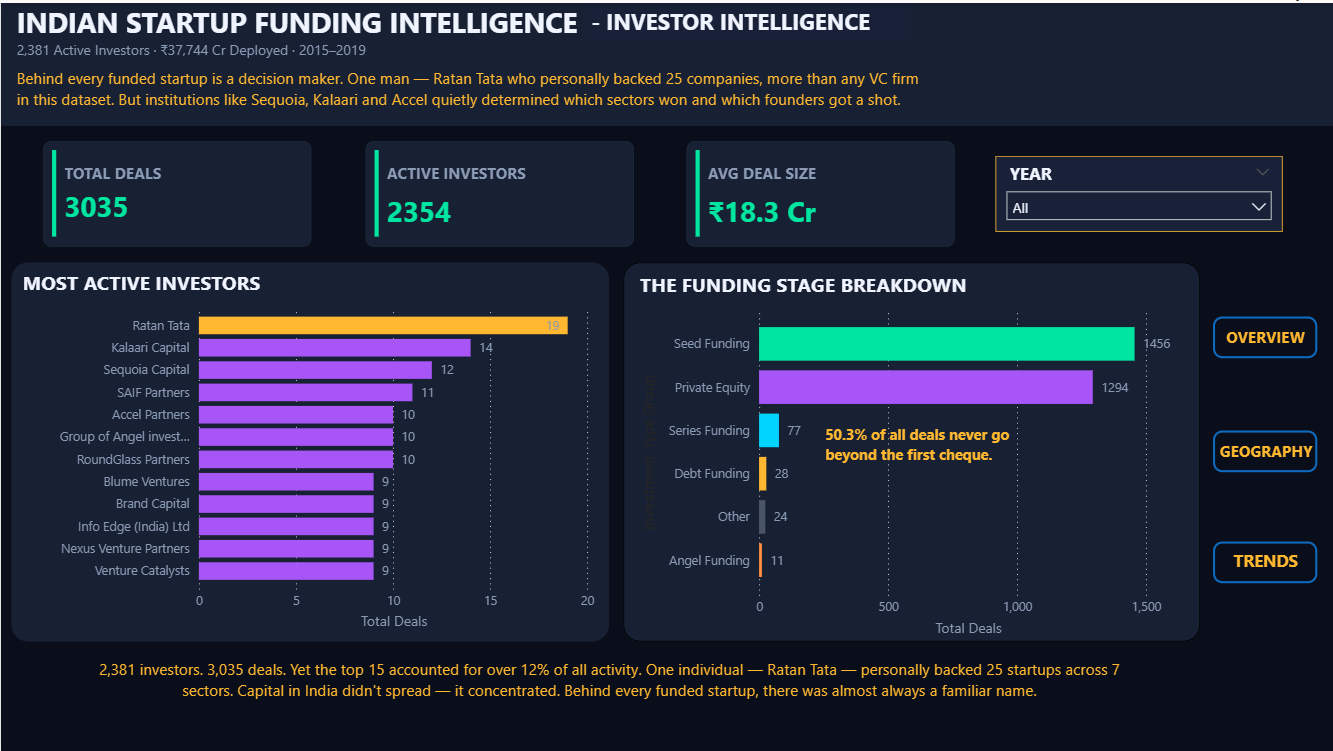

The page's visual inventory and layout, read from the dashboard file:
{"tool":"powerbi","page":{"name":"Page3_Investors","canvas":[1280,720],"ordinal":2},"visuals":[{"type":"textbox","title":"INDIAN STARTUP FUNDING INTELLIGENCE","box":[0,0,1279.5,118.1],"z":0},{"type":"cardVisual","title":"TOTAL DEALS","fields":{"Data":["CountNonNull(fact_funding.funding_id)"]},"box":[40.9,131.7,257.4,101.5],"z":1000},{"type":"cardVisual","fields":{"Data":["dim_investors.ACTIVE INVESTORS"]},"box":[349.8,131.7,257.4,101.5],"z":2000},{"type":"cardVisual","fields":{"Data":["fact_funding.AVG DEAL SIZE"]},"box":[657.2,131.7,257.4,101.5],"z":3000},{"type":"clusteredBarChart","title":"THE FUNDING STAGE BREAKDOWN","fields":{"Category":["dim_investment_type.Investment_type Group"],"Y":["CountNonNull(fact_funding.funding_id)"]},"box":[596.6,248.3,552.7,363.4],"z":4000},{"type":"clusteredBarChart","title":"MOST ACTIVE INVESTORS","fields":{"Category":["fact_funding.investors_name"],"Y":["CountNonNull(fact_funding.funding_id)"]},"box":[10.6,248.3,572.4,363.4],"z":5000},{"type":"textbox","box":[10.6,56,881.3,75.7],"z":6000},{"type":"textbox","box":[74.2,622.3,1017.5,80.3],"z":7000},{"type":"slicer","fields":{"Values":["dim_date.year"]},"box":[953.9,146.9,275.6,72.7],"z":8000},{"type":"textbox","title":"- INVESTOR INTELLIGENCE","box":[560.3,3,310.4,33.3],"z":9000},{"type":"textbox","box":[785.9,398.2,210.5,65.1],"z":9001},{"type":"actionButton","title":"OVERVIEW","box":[1161.4,300,100,40],"z":9002},{"type":"actionButton","title":"GEOGRAPHY","box":[1161.4,410.3,100,40],"z":9003},{"type":"actionButton","title":"TRENDS","box":[1161.4,516.3,100,40],"z":9004}]}

Visuals, with their boxes in screenshot pixels (x1, y1, x2, y2), scaled from the page's 1280x720 canvas onto the 1333x751 screenshot:
"INDIAN STARTUP FUNDING INTELLIGENCE" textbox: Rect(0, 0, 1332, 123)
"TOTAL DEALS" cardVisual: Rect(43, 137, 311, 243)
cardVisual - dim_investors.ACTIVE INVESTORS: Rect(364, 137, 632, 243)
cardVisual - fact_funding.AVG DEAL SIZE: Rect(684, 137, 952, 243)
"THE FUNDING STAGE BREAKDOWN" clusteredBarChart: Rect(621, 259, 1197, 638)
"MOST ACTIVE INVESTORS" clusteredBarChart: Rect(11, 259, 607, 638)
textbox: Rect(11, 58, 929, 137)
textbox: Rect(77, 649, 1137, 733)
slicer - dim_date.year: Rect(993, 153, 1280, 229)
"- INVESTOR INTELLIGENCE" textbox: Rect(583, 3, 907, 38)
textbox: Rect(818, 415, 1038, 483)
"OVERVIEW" actionButton: Rect(1209, 313, 1314, 355)
"GEOGRAPHY" actionButton: Rect(1209, 428, 1314, 470)
"TRENDS" actionButton: Rect(1209, 539, 1314, 580)
